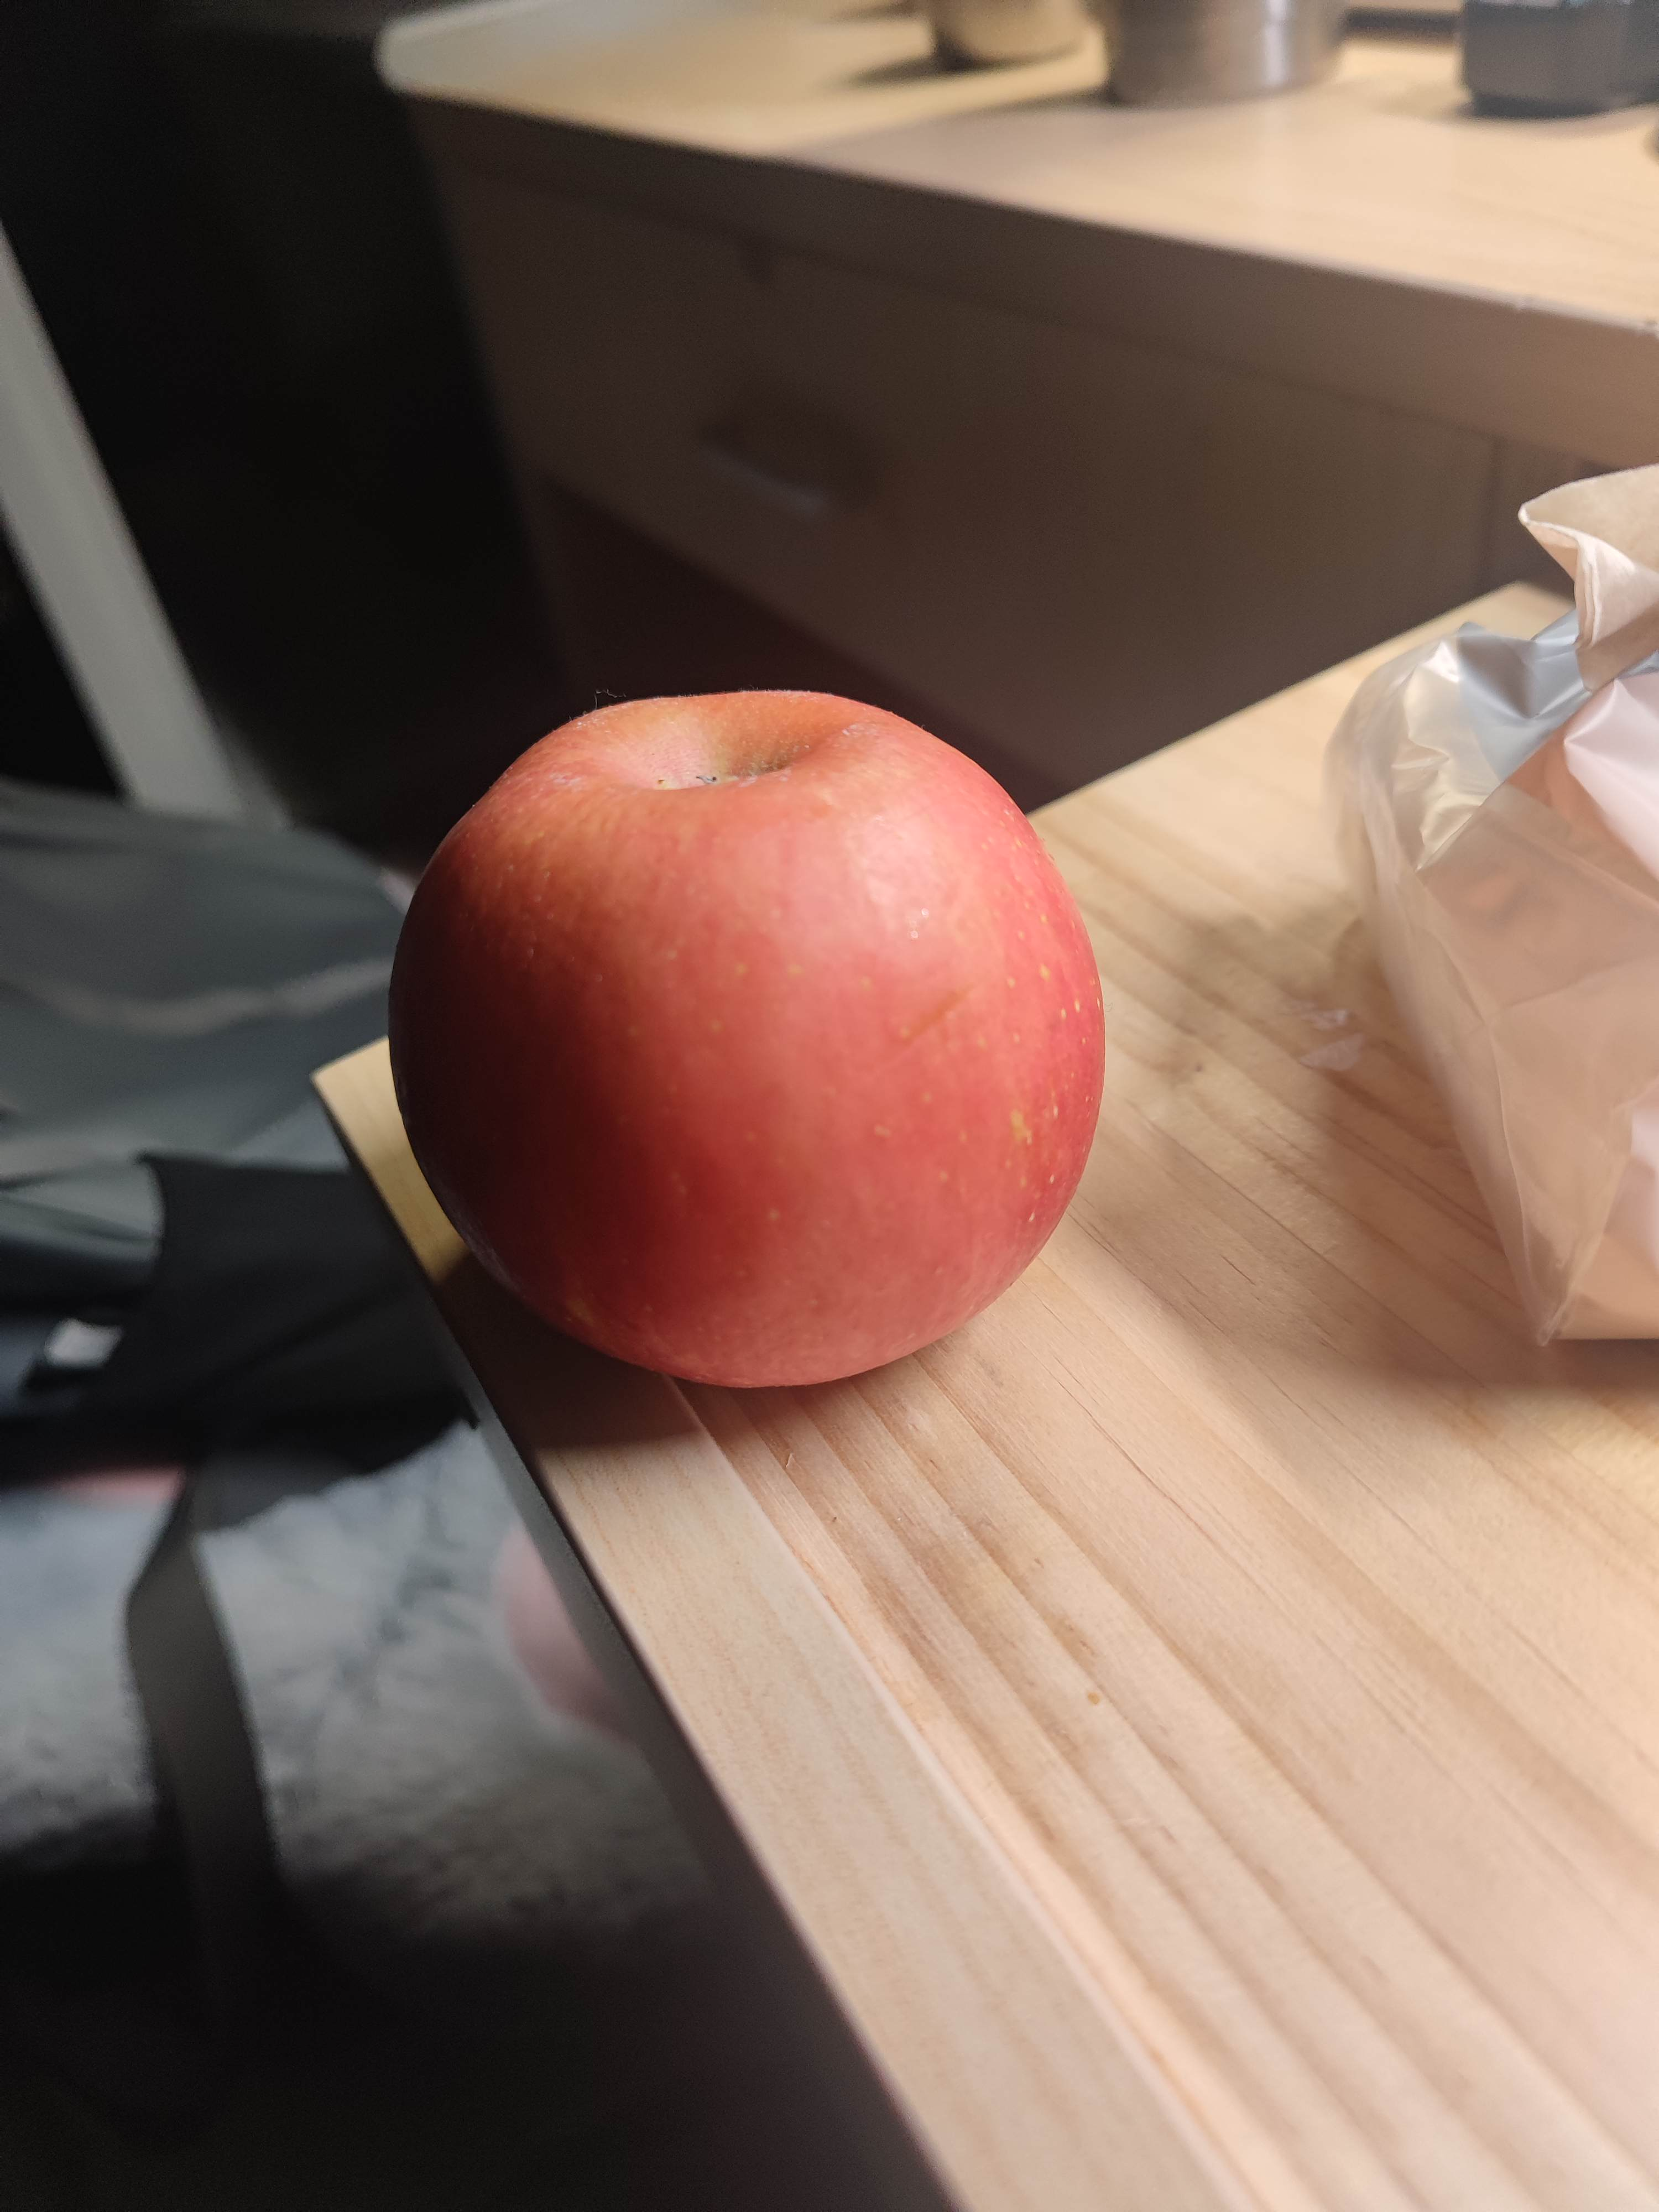apple: (392, 683, 1105, 1392)
